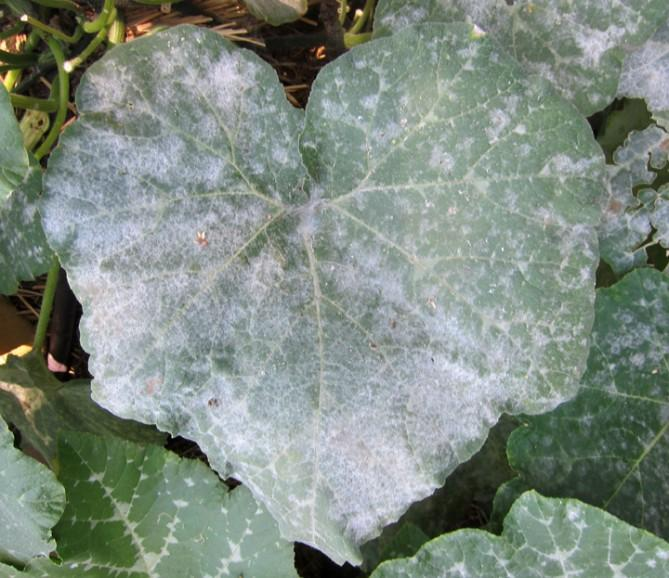Squash Powdery mildew leaf: (43, 22, 599, 561)
